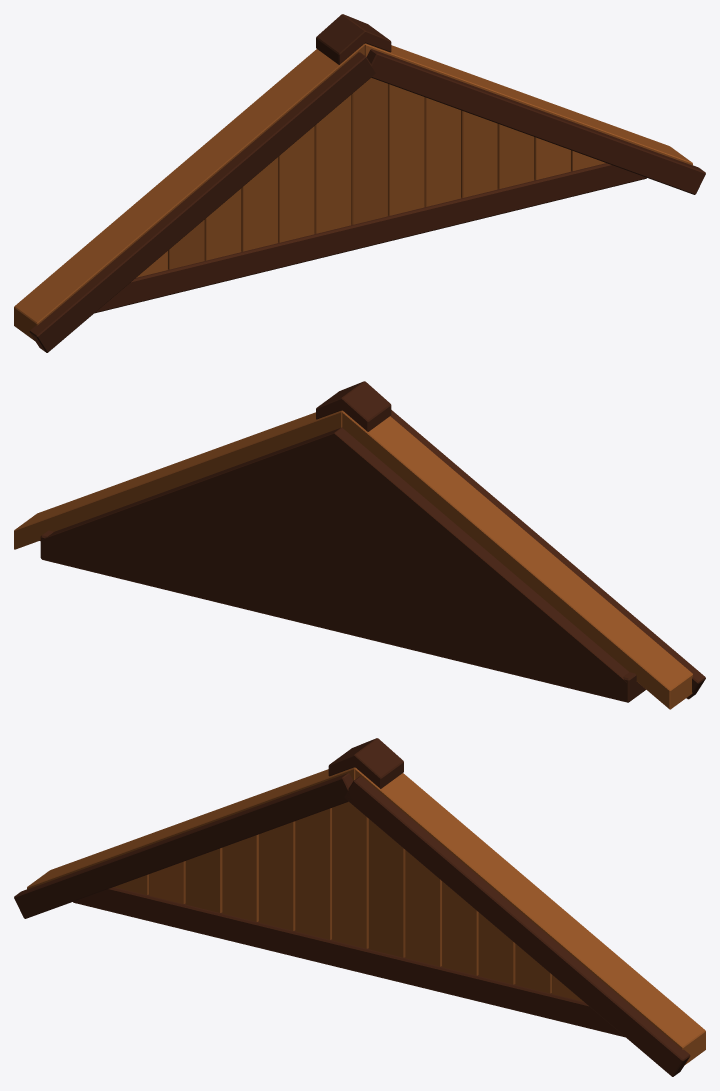
The model's file is QH_Gable_4m.fbx.
3 renders of one model, top to bottom at view 1: azimuth 30°, elevation 25°; view 2: azimuth 150°, elevation 25°; view 3: azimuth 330°, elevation 25°, orthographic.
Parts seen in each view (by area): view 1: QH_Gable_4m; view 2: QH_Gable_4m; view 3: QH_Gable_4m.
Boxes of the visible parts, x1=… form: QH_Gable_4m: x1=14, y1=14, x2=705, y2=352; QH_Gable_4m: x1=14, y1=381, x2=705, y2=709; QH_Gable_4m: x1=14, y1=738, x2=705, y2=1076.
Size of the model in its own units: 4.57 by 1.56 by 0.4425.
